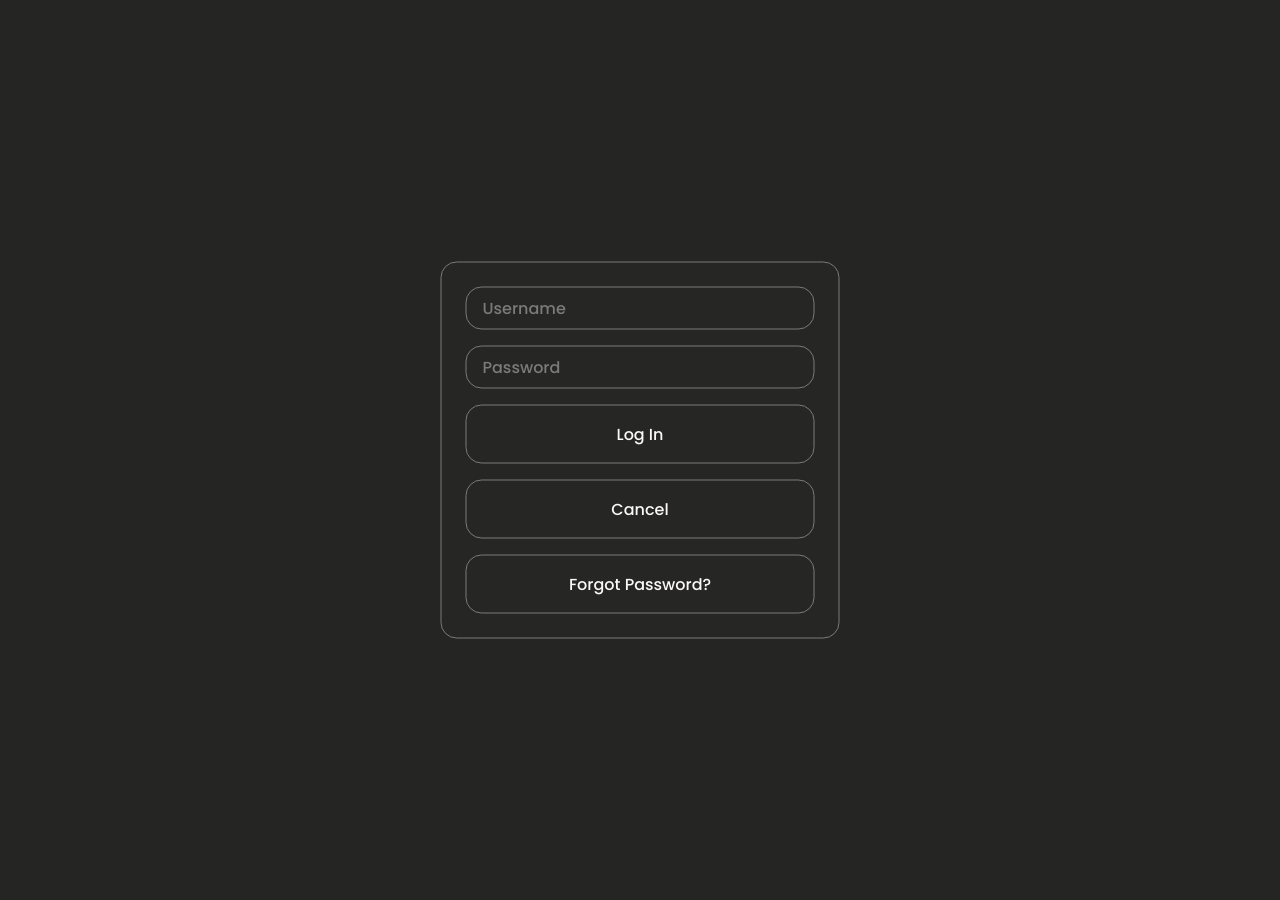
Scenario: Login component › Failed login › should show error message on invalid credentials
Type "wrong@example.com" into the field with placeholder "Username".
click(640, 308); type("wrong@example.com")  # box 466,286 -> 814,330
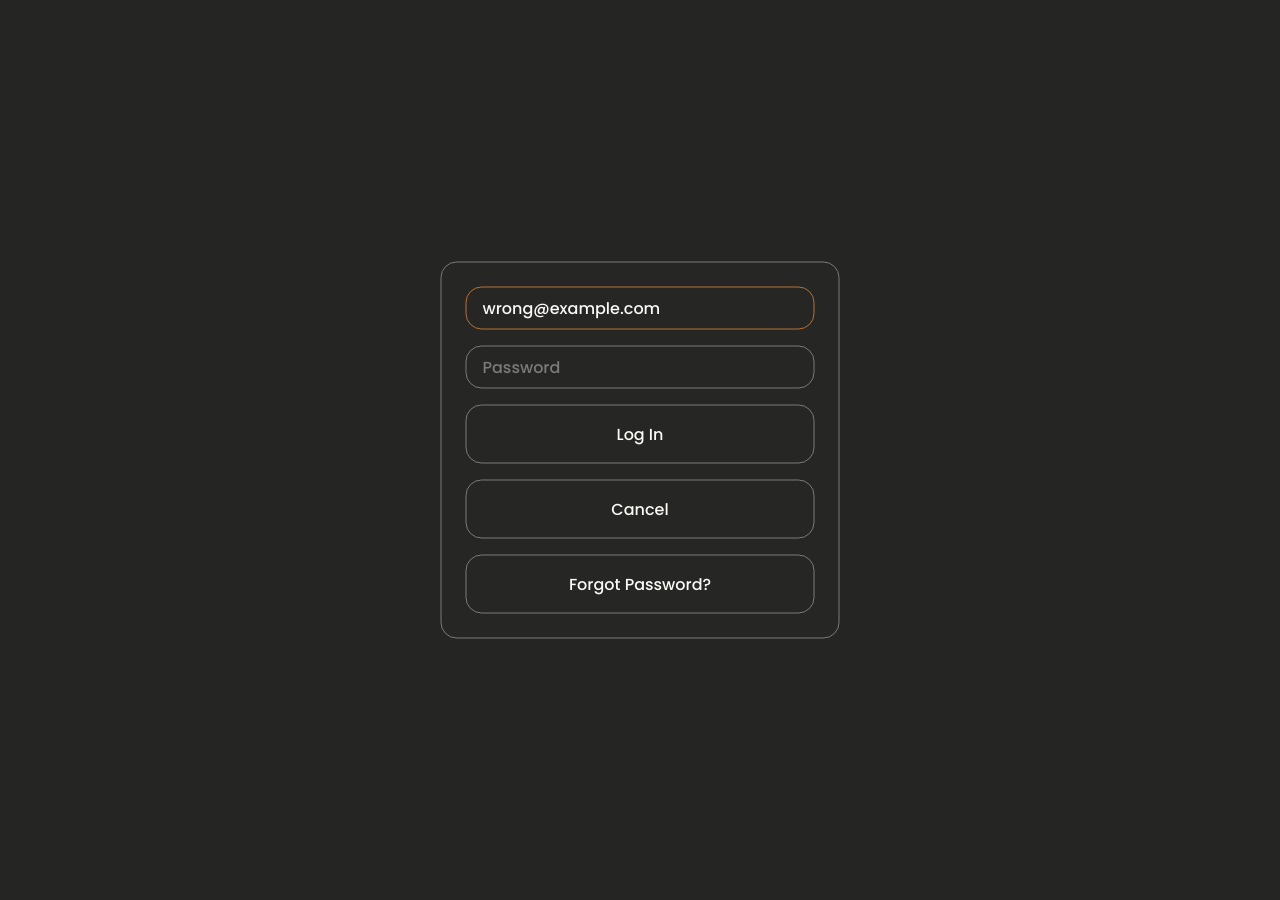
Type "wrongpass" into the password field with placeholder "Password".
click(640, 367); type("wrongpass")  # box 466,346 -> 814,388
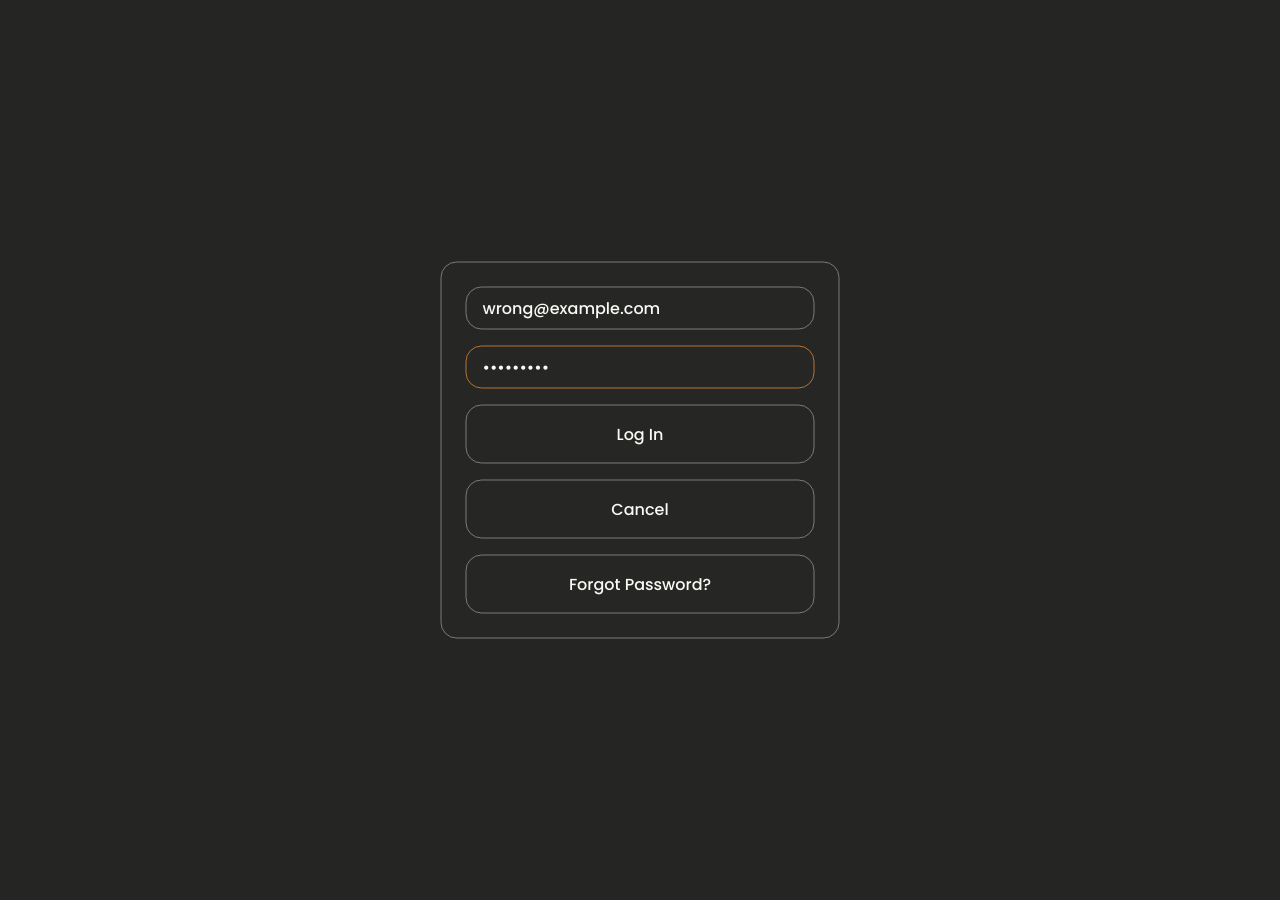
Click the button "Log In".
click(640, 434)  # box 466,404 -> 814,464
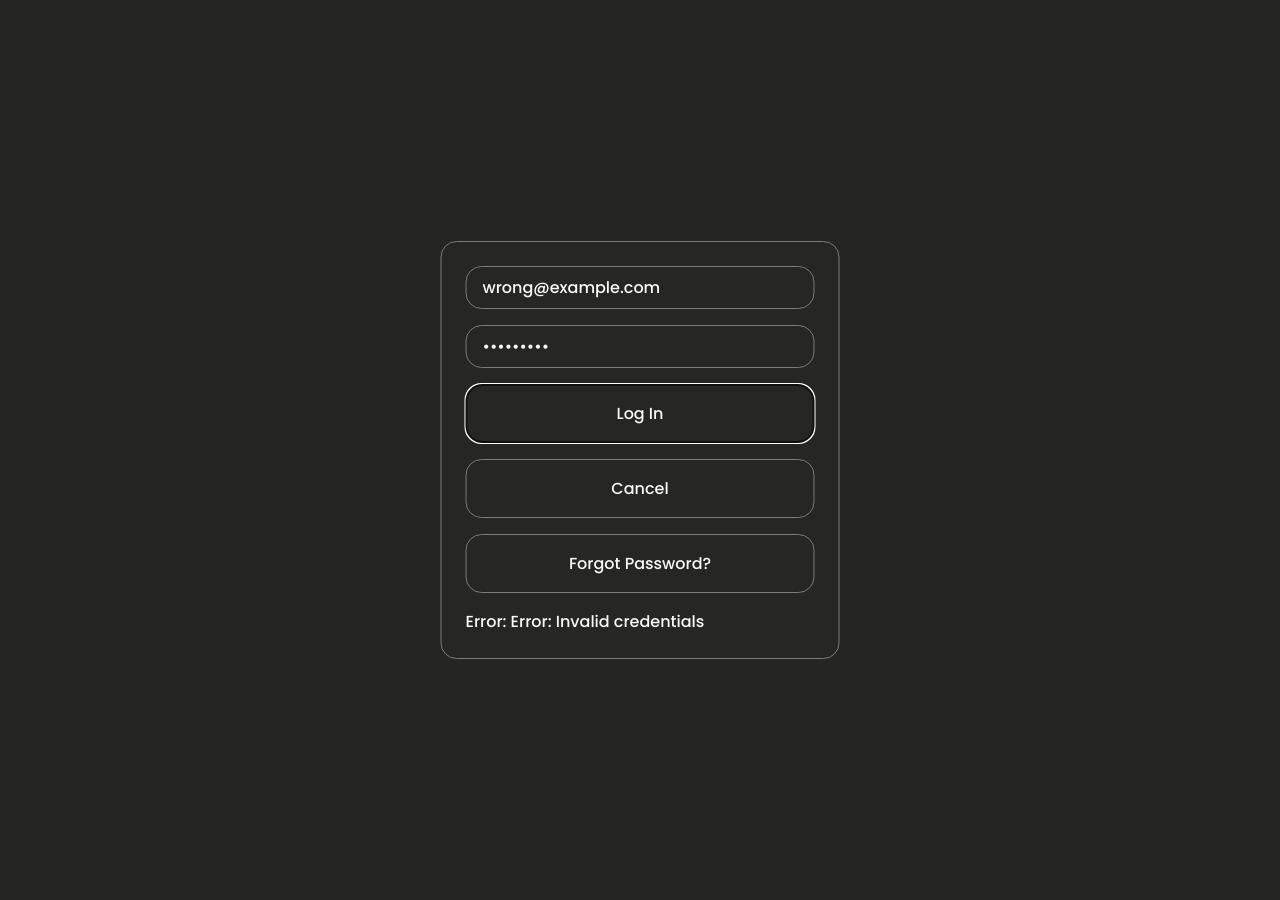
Check: the text "Error: Error: Invalid credentials" is shown, box 466,610 -> 704,633
